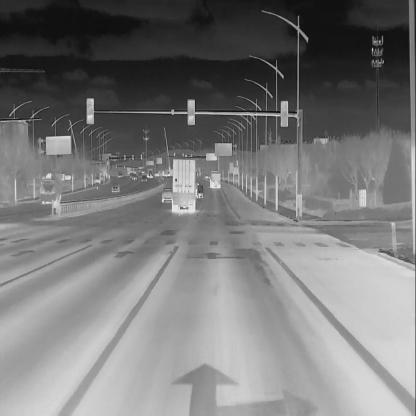bus: (38, 174, 64, 206)
car: (209, 168, 221, 190), (160, 186, 173, 202), (195, 182, 203, 199), (110, 181, 121, 192), (116, 170, 122, 178), (132, 173, 138, 181), (153, 171, 159, 177), (129, 172, 133, 179)
truck: (168, 155, 198, 216), (209, 168, 221, 189), (146, 168, 154, 178), (141, 172, 147, 182)
